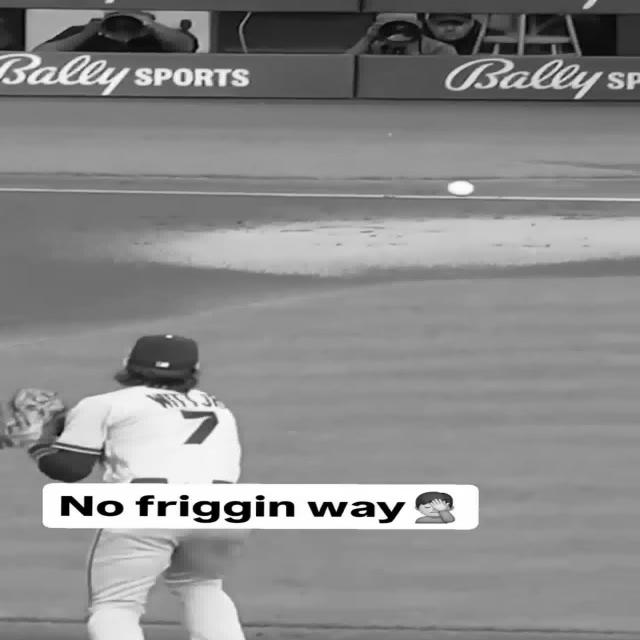baseball: (447, 180, 473, 196)
baseball_glove: (0, 389, 64, 448)
